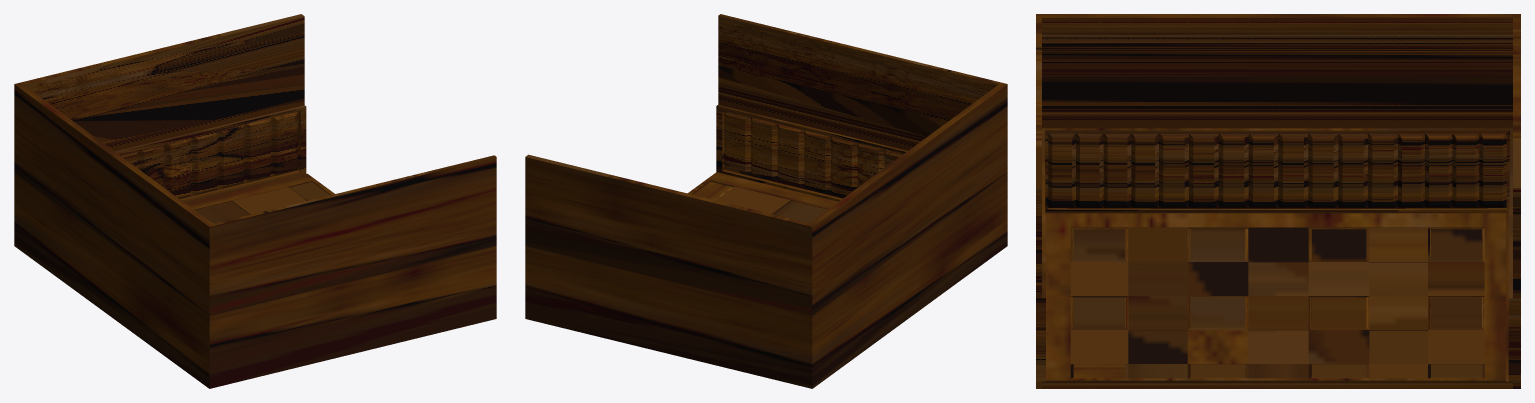
The model's file is patarn.001_doujou_UV.fbx.
3 views of the same model, side by side, from view 1: azimuth 30°, elevation 25°; view 2: azimuth 150°, elevation 25°; view 3: azimuth 270°, elevation 25° (orthographic). The views are drawn at different scales.
Visible parts, largest first — view 1: 立方体.098; view 2: 立方体.098; view 3: 立方体.098.
Boxes of the visible parts, box(x1,y1,x2,y2) form: 立方体.098: box(14, 14, 496, 388); 立方体.098: box(525, 14, 1007, 388); 立方体.098: box(1036, 14, 1520, 388).
Bounding box in the file's own units: 782 × 421 × 921.
